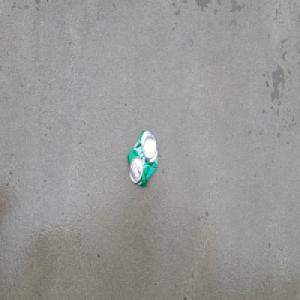SodaCan: (126, 128, 158, 188)
